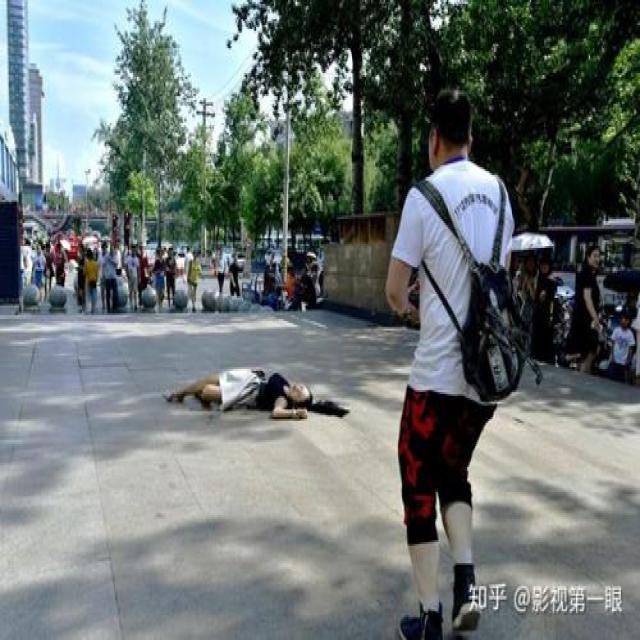10-: (0, 79, 635, 634)
down: (155, 327, 361, 438)
